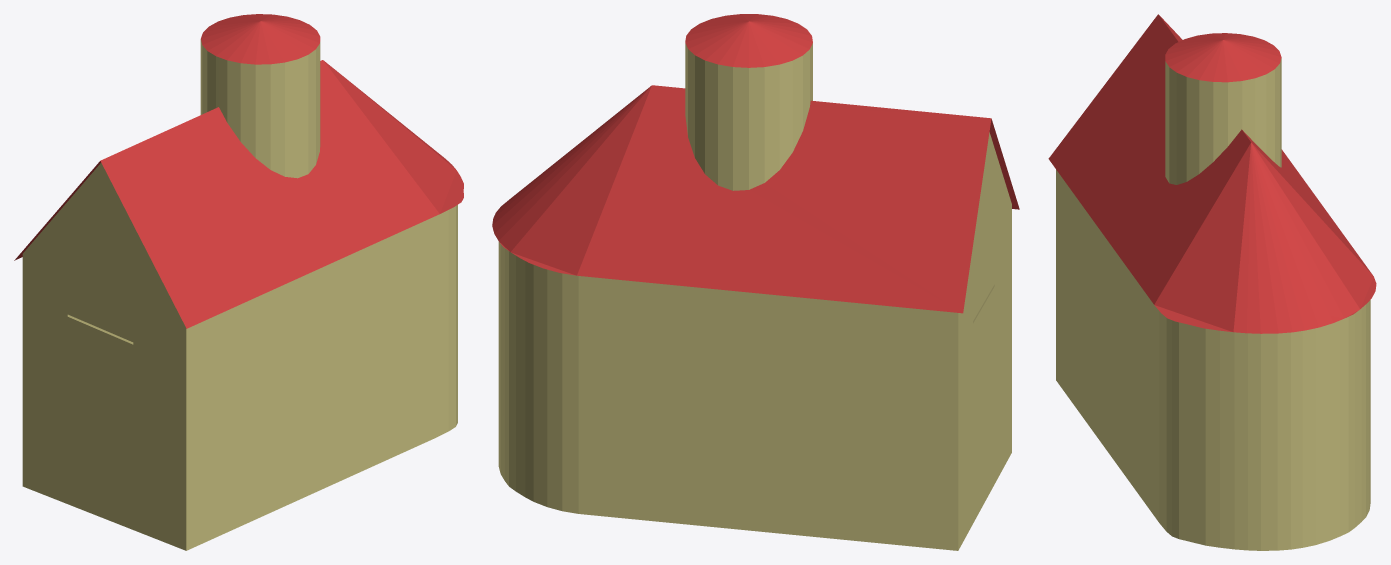
3 renders of one model, left to right at view 1: azimuth 30°, elevation 25°; view 2: azimuth 150°, elevation 25°; view 3: azimuth 270°, elevation 25°, orthographic. The views are drawn at different scales.
Bounding box in the file's own units: 20.22 × 13.78 × 19.3.
